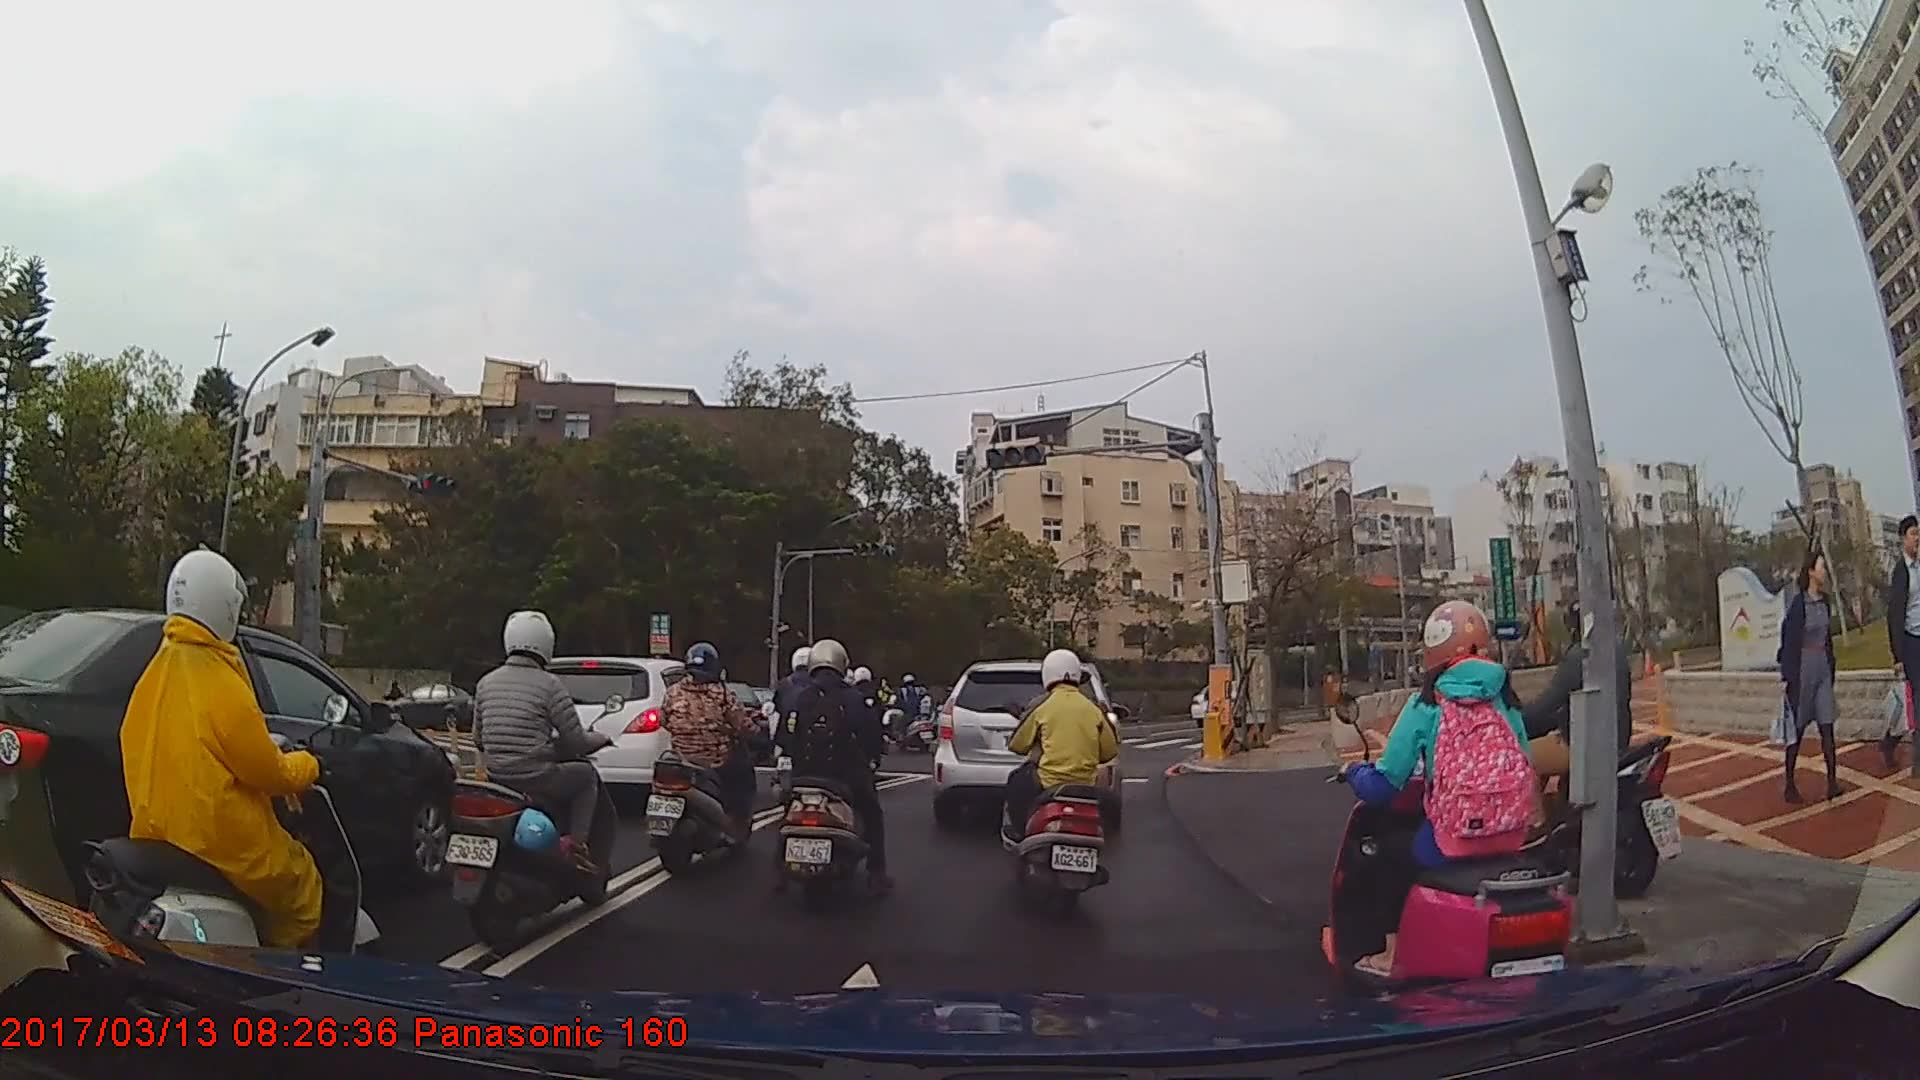pedestrian: (1786, 557, 1857, 808), (1884, 514, 1920, 784)
rider: (87, 545, 386, 1006), (1333, 605, 1569, 1014), (447, 606, 619, 952), (1482, 598, 1660, 903), (773, 637, 898, 917), (1002, 649, 1121, 916), (642, 642, 768, 877)
vehicle: (0, 605, 461, 941), (517, 657, 751, 817), (927, 661, 1123, 829), (386, 682, 489, 731)
